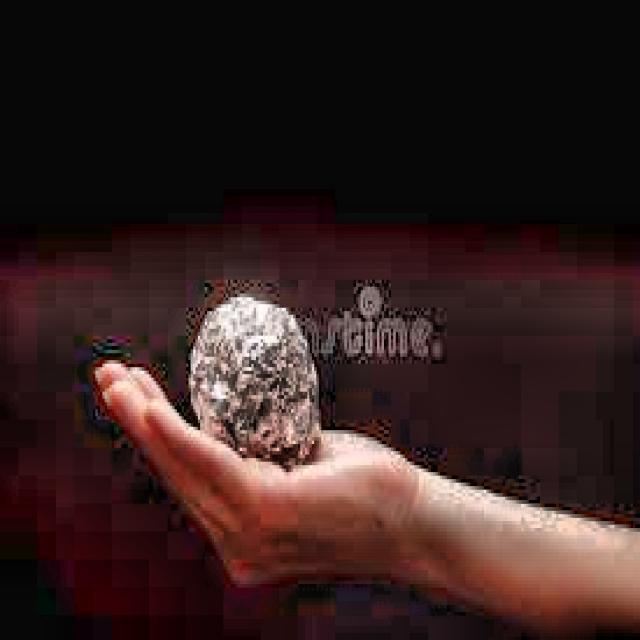Foil: (176, 274, 324, 474)
